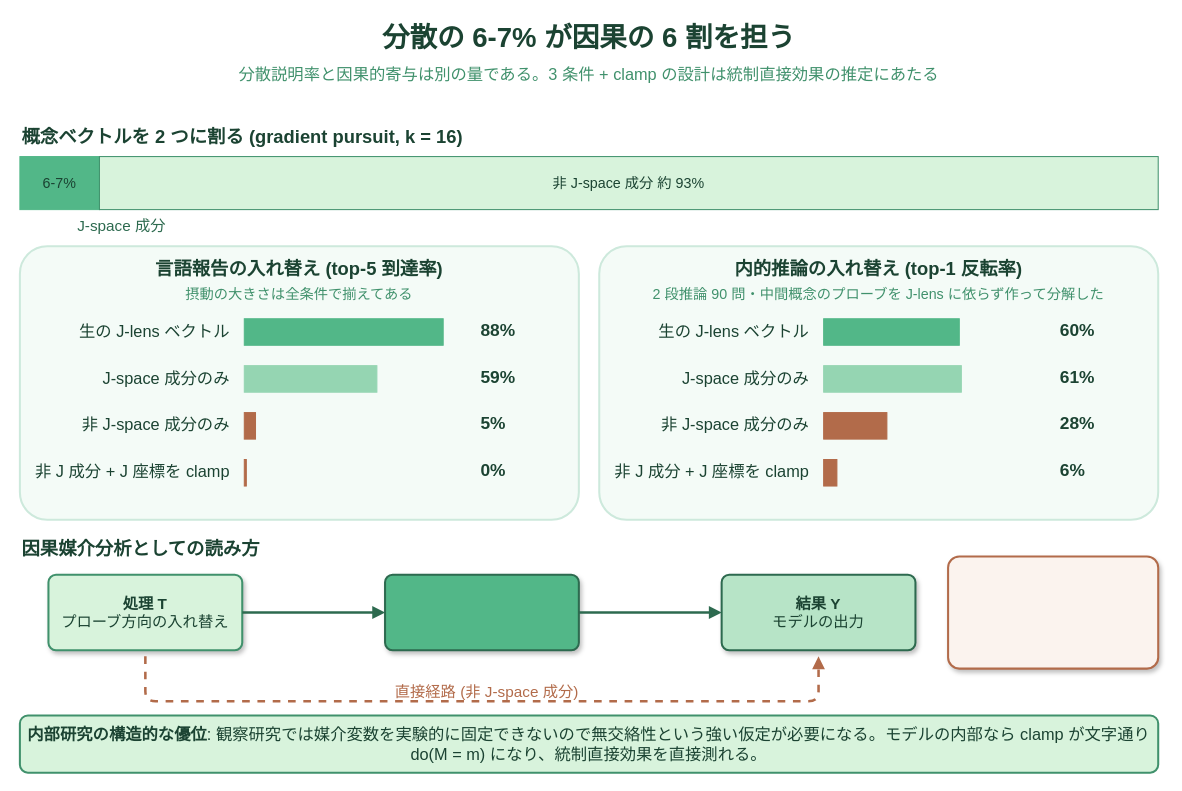
The diagram is 1182 pixels wide and 791 high, and some of its shapes have lost their labels. Each missing label, with the centre of its shape:
"clamp = do(M = m) M を clean pass の値に固定し、 それでも Y が動くかを見る" goes at pixel 1053 613.
"媒介 M J-space の中身" goes at pixel 482 613.
